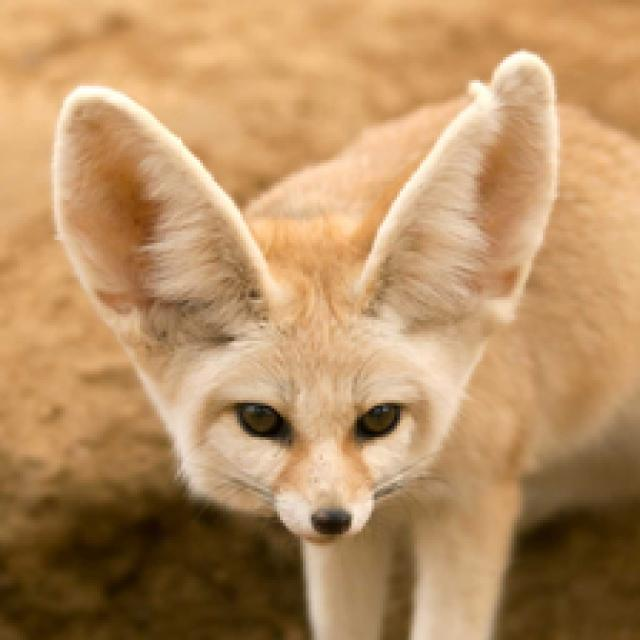fox: (25, 32, 640, 638)
